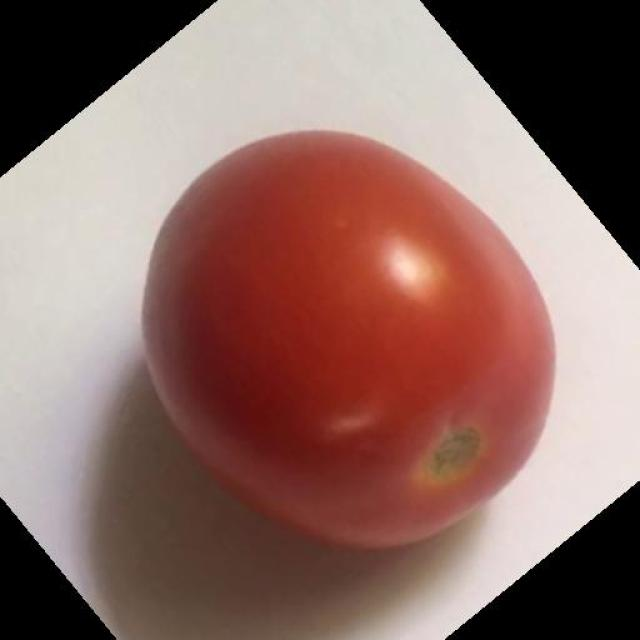ripe tomato: (128, 119, 564, 574)
